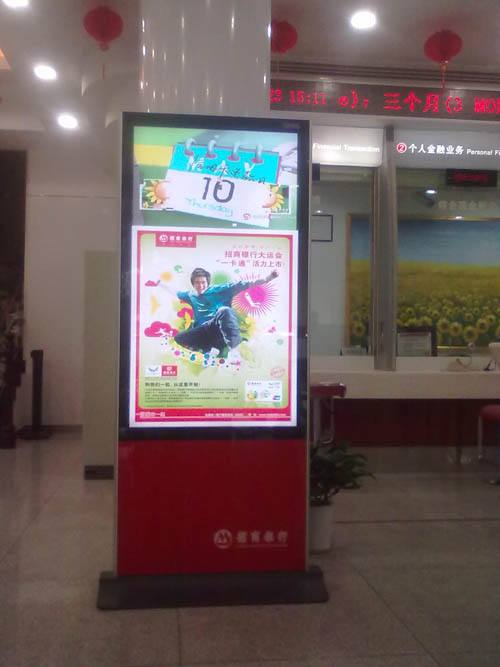bill: (133, 227, 292, 420)
